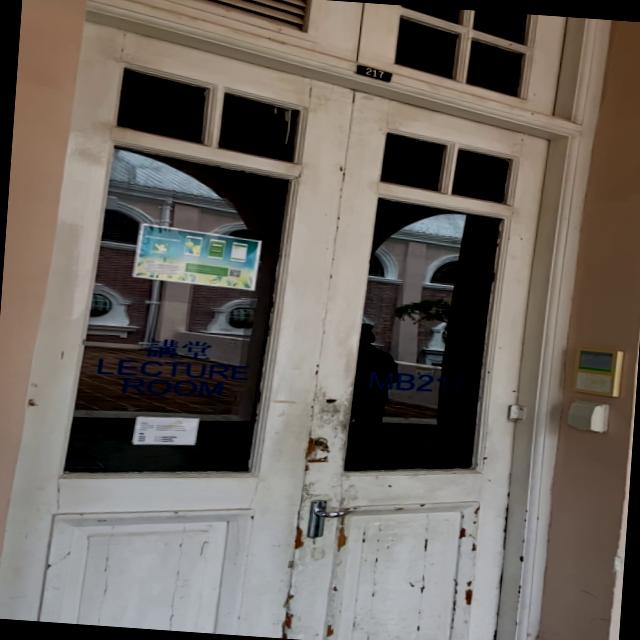room217: (354, 62, 393, 82)
room217Window: (362, 366, 470, 397)
